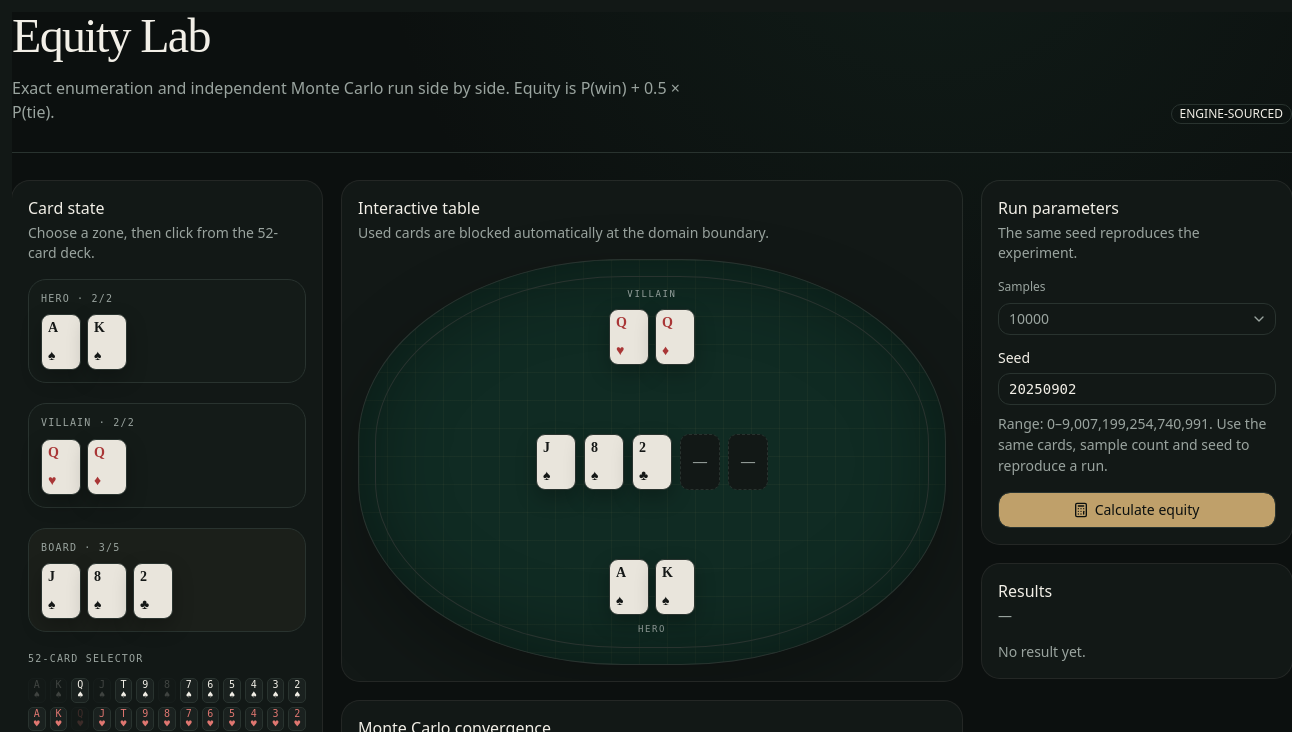
Test: equity seed precision (en) › hides completed results when the seed is edited and requires a new run
Click the button "Calculate equity" at (1137, 510), box [998,492,1276,528]
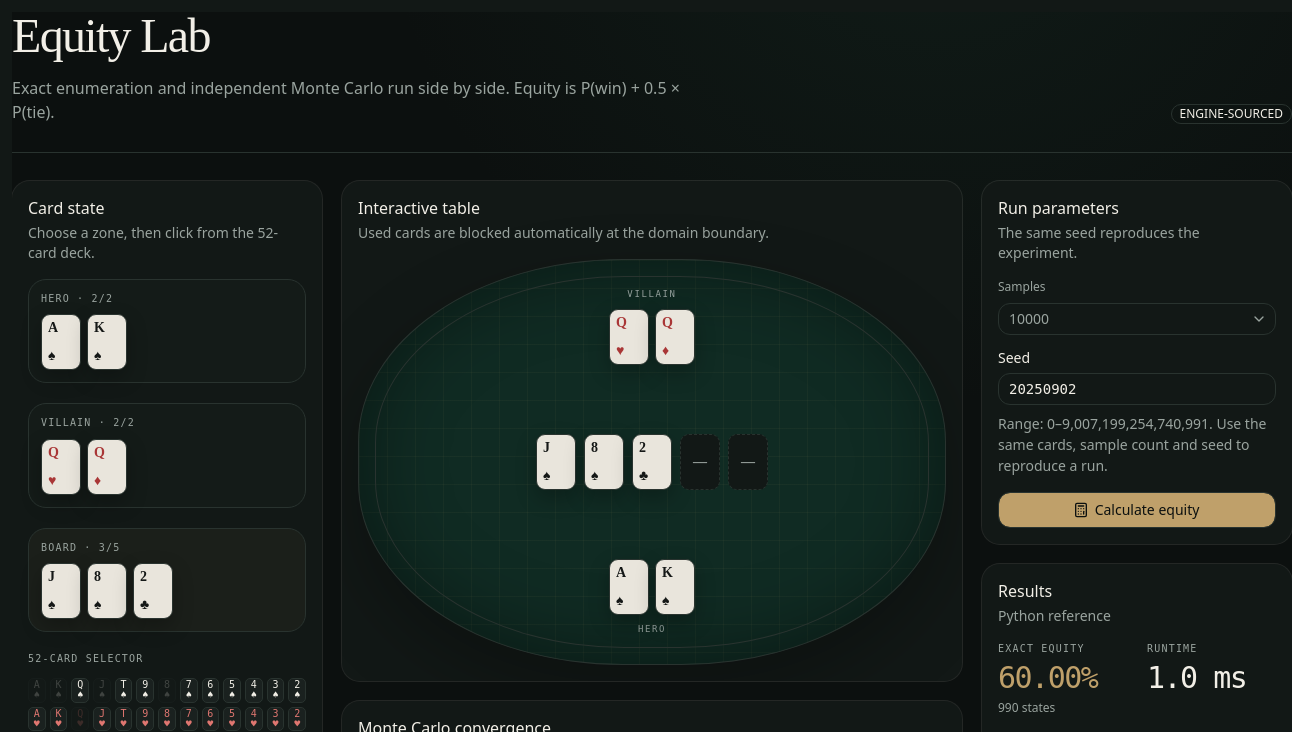
Expected: the text "Exact equity" is shown, [998,643,1085,654]
Replace the text in the field labelled "Seed" with "9007199254740993" at (1137, 389), box [998,373,1276,405]
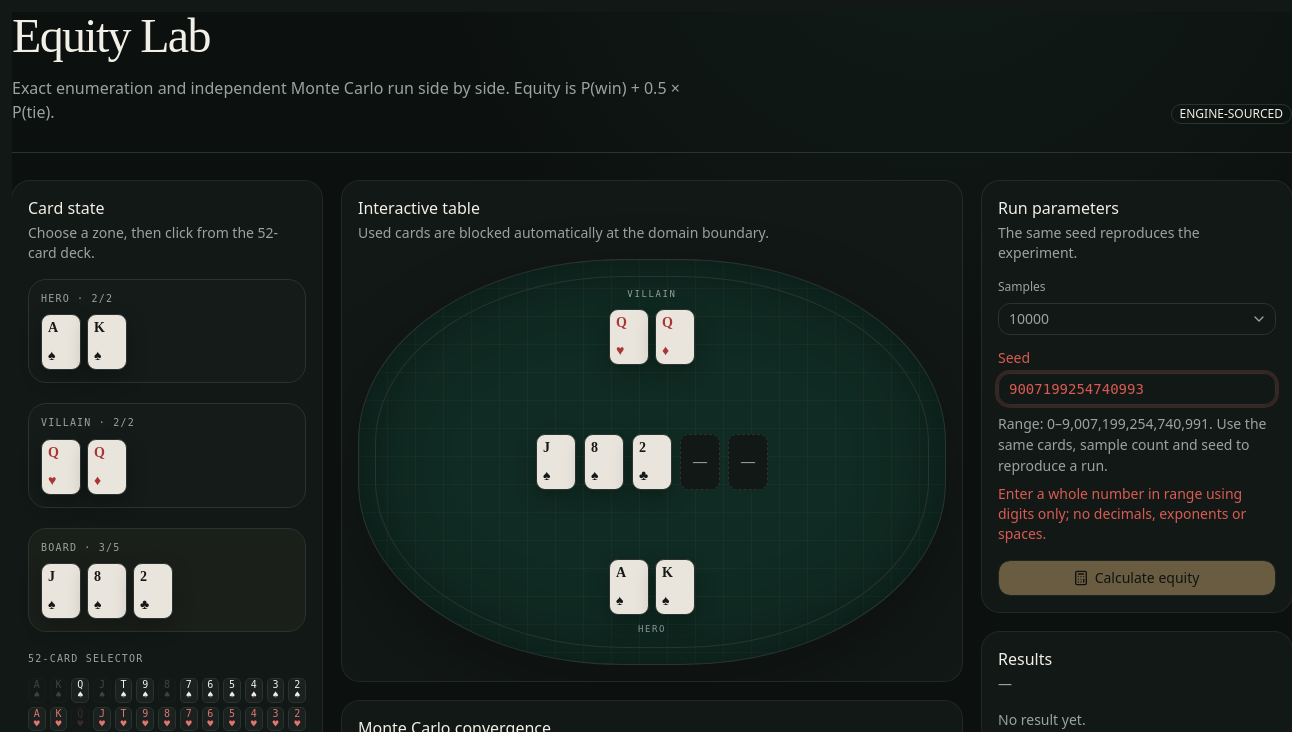
Expected: the text "Exact equity" is not shown
Replace the text in the field labelled "Seed" with "7" at (1137, 389), box [998,373,1276,405]
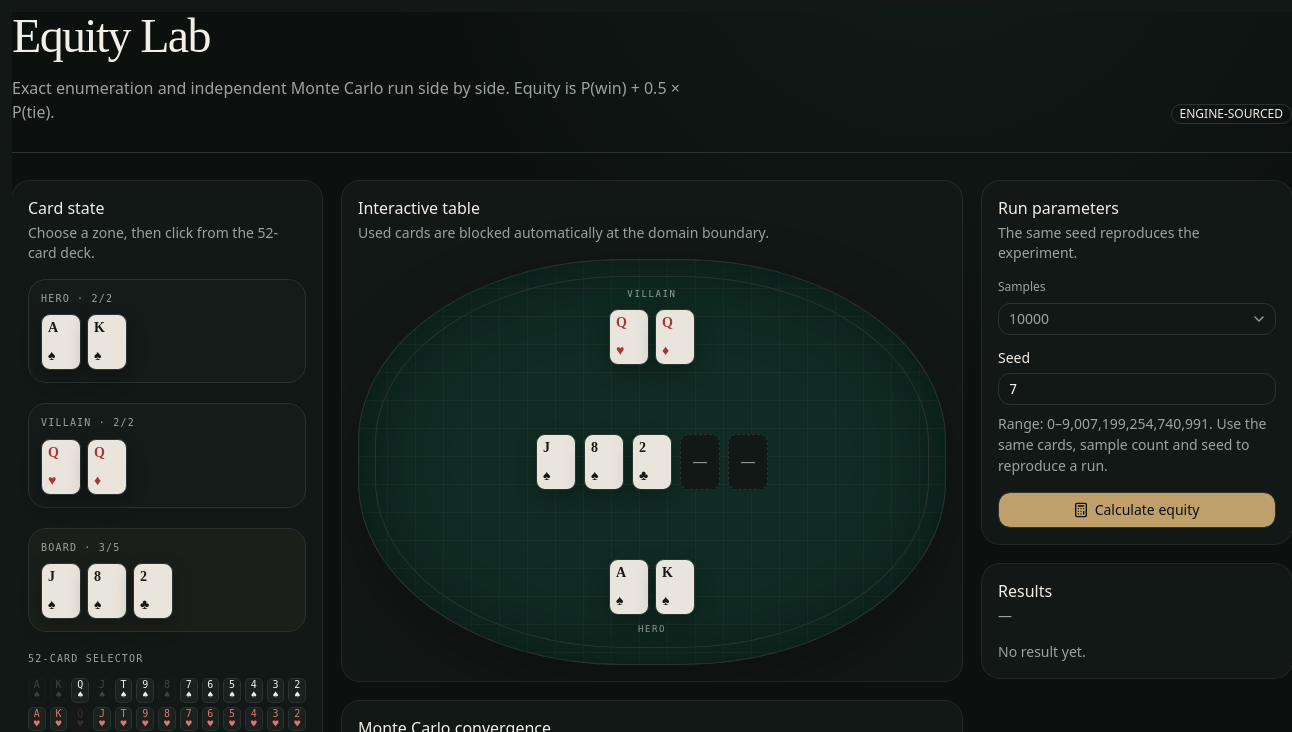
Expected: the text "Exact equity" is not shown
Click the button "Calculate equity" at (1137, 510), box [998,492,1276,528]
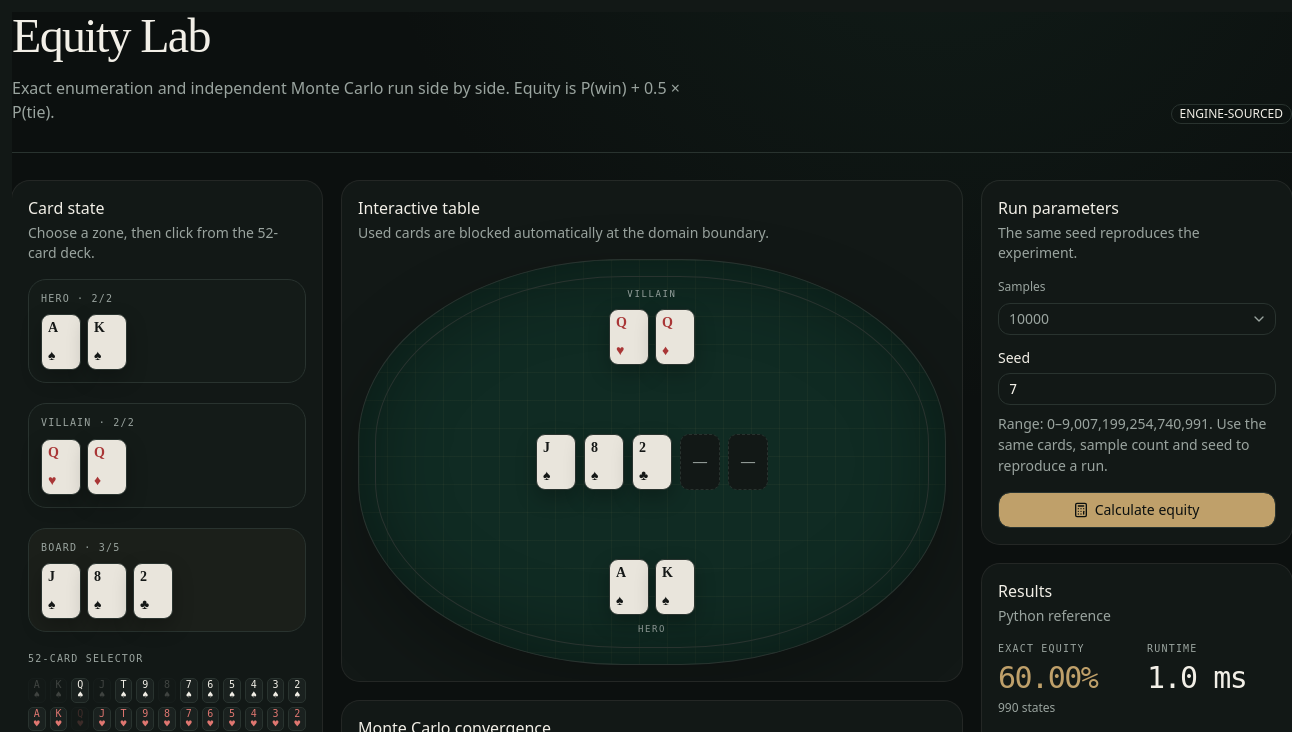
Expected: the text "Exact equity" is shown, [998,643,1085,654]
